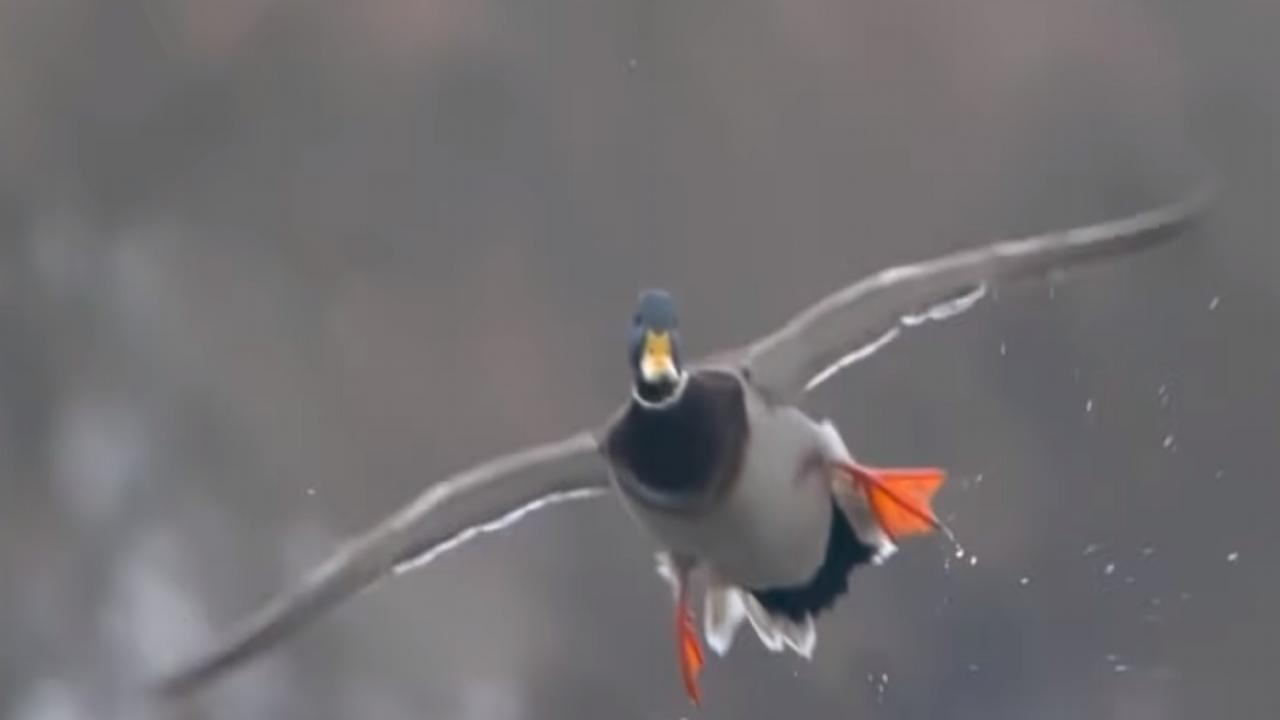Bird: (142, 191, 1213, 720)
